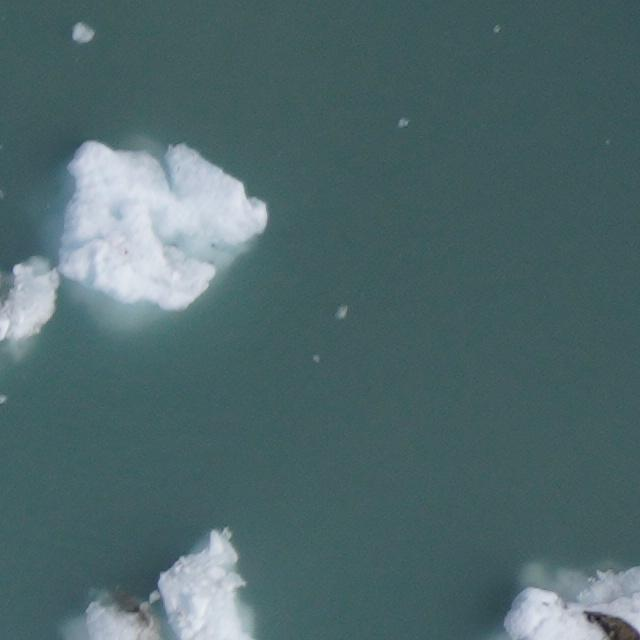seal: (585, 612, 639, 639)
